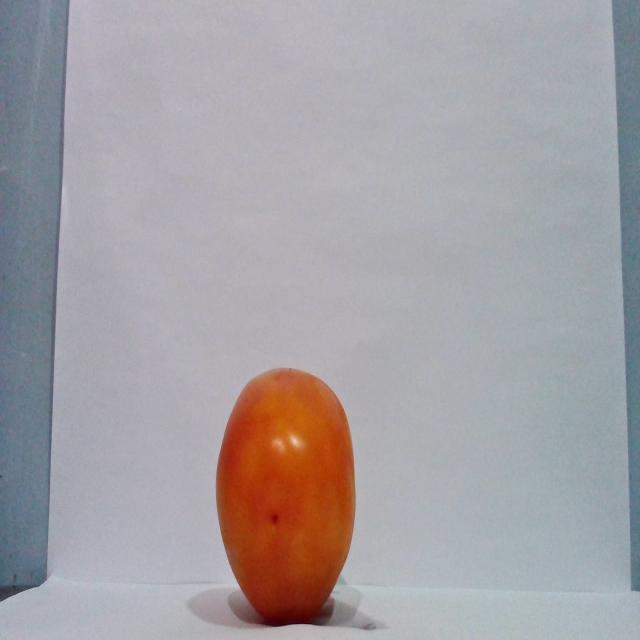Red: (213, 365, 357, 623)
